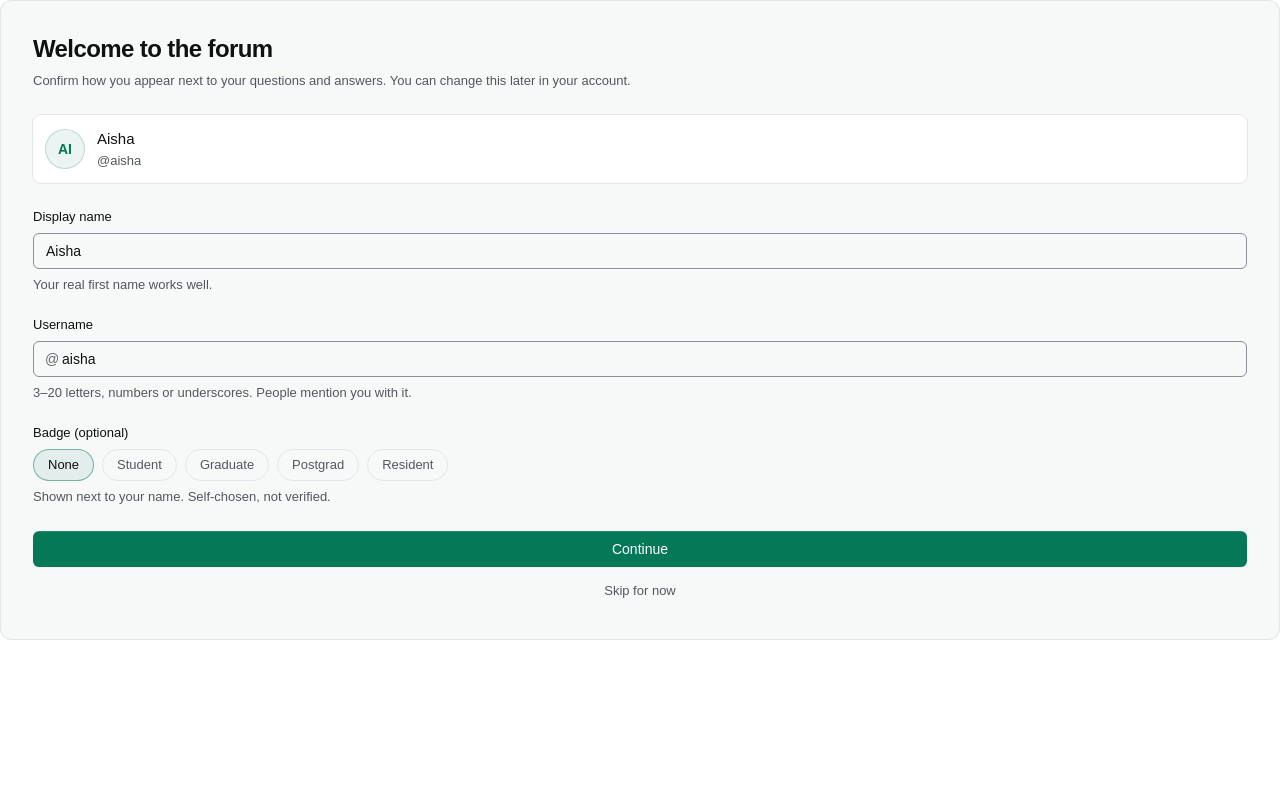
Test case: WelcomeForm › previews the typed name, username and chosen badge
Replace the text in the field labelled "Display name" with "Sara" at [640, 251], box [33,233,1247,269]
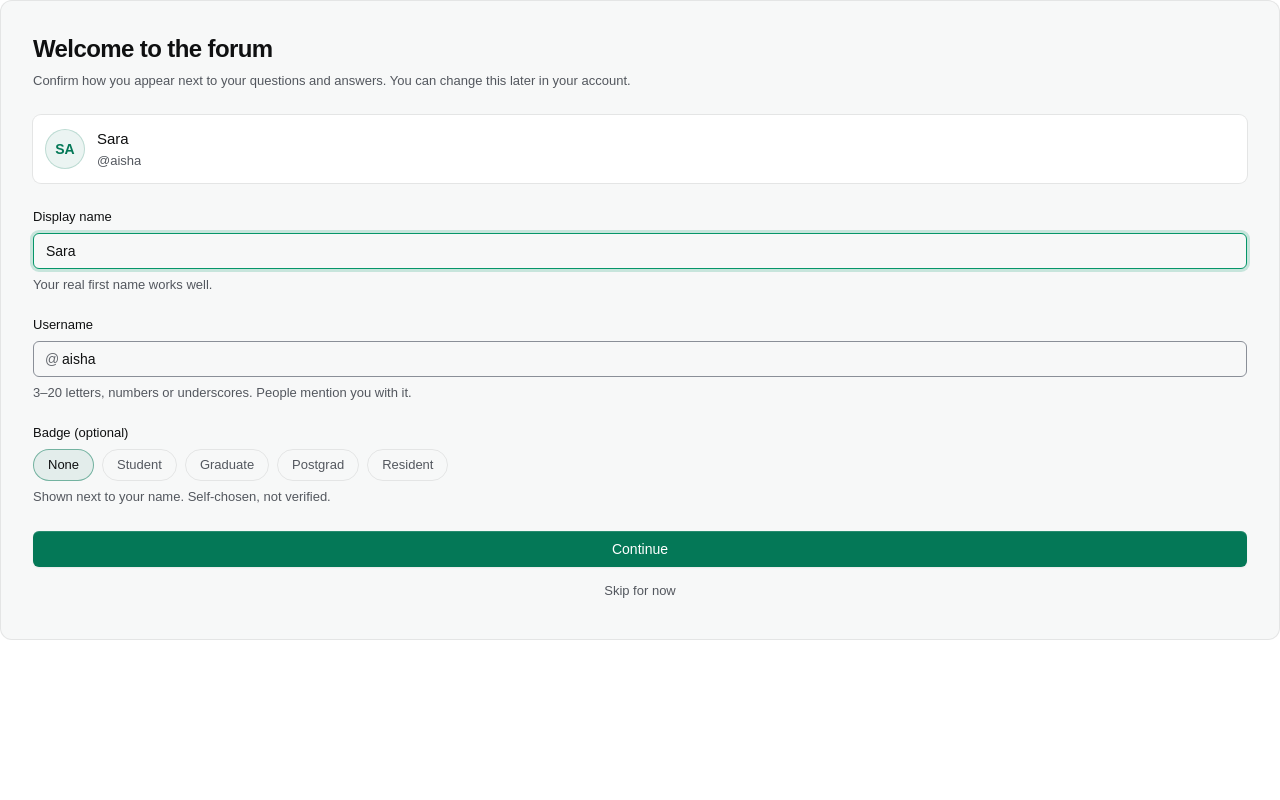
Replace the text in the field labelled "Username" with "@Sara_K" at [640, 359], box [33,341,1247,377]
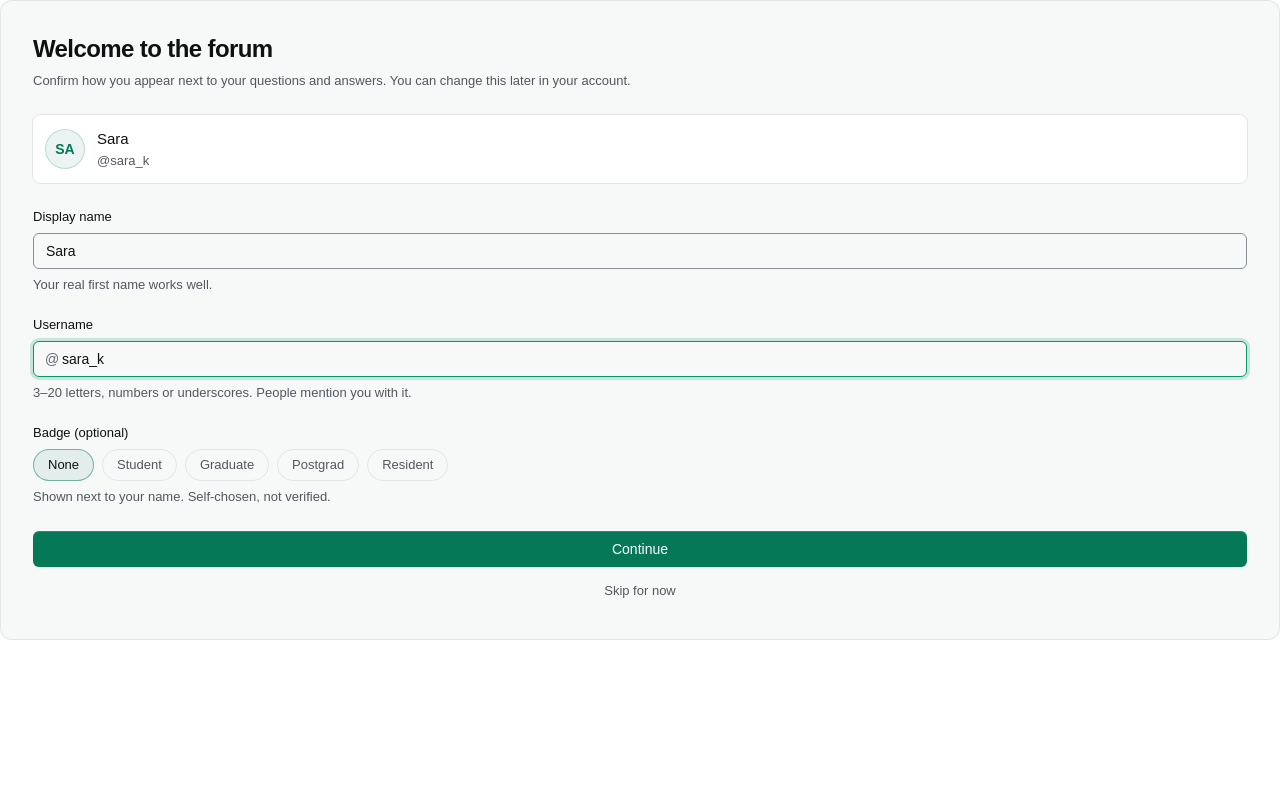
Click the radio button labelled "Graduate" at [227, 465], box [185,449,269,481]
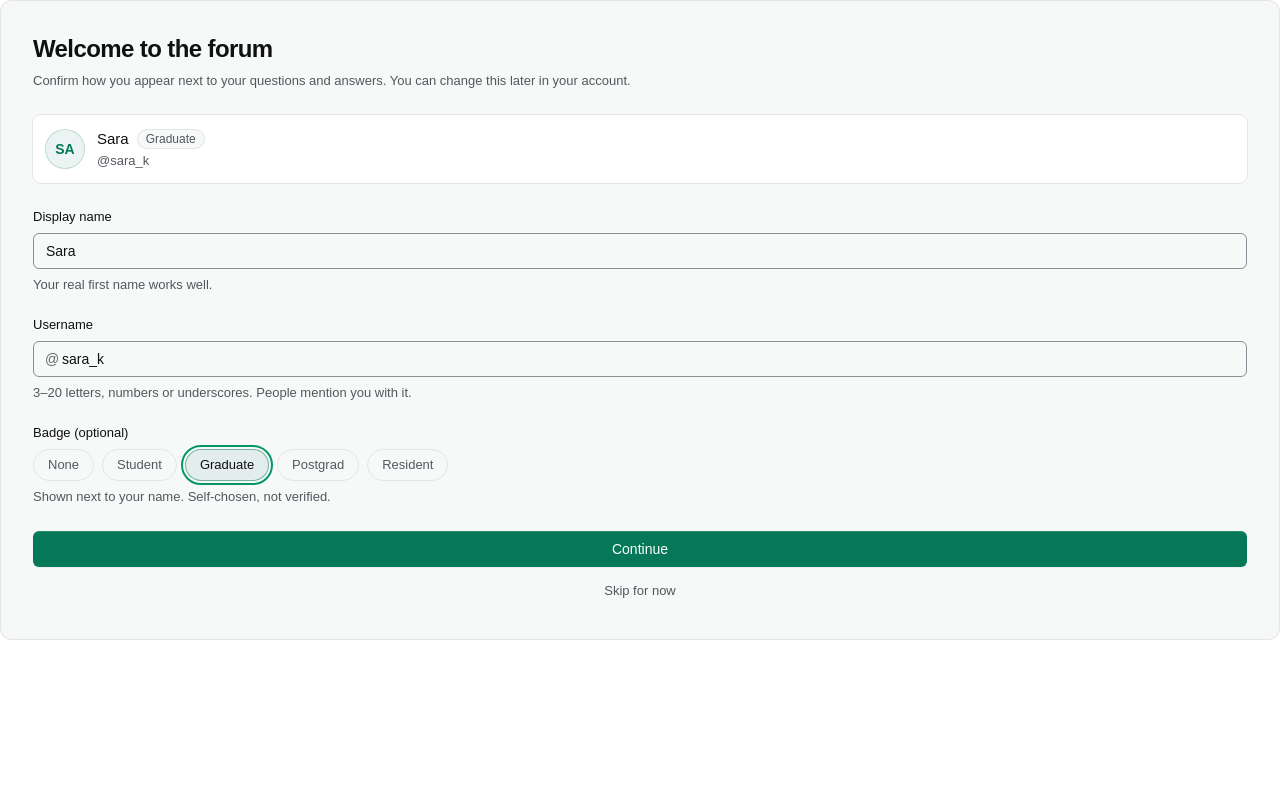
Now the text "Sara" is shown, box [97,127,129,151]
Now the text "@sara_k" is shown, box [97,153,149,168]
Now the text "Graduate" is shown, box [137,129,205,149]
